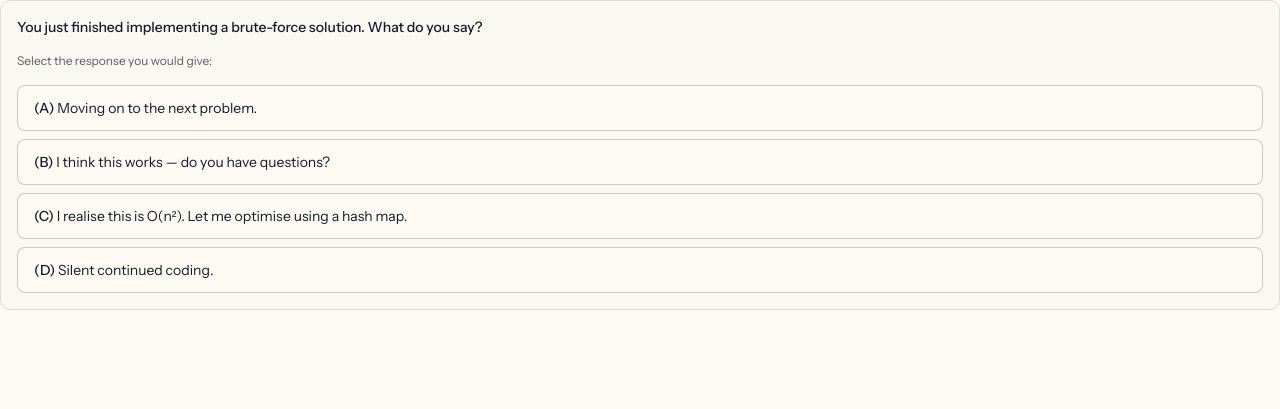
Test case: ChooseYourLineWidget › clicking the same choice again hides feedback
Click the button with test id "choice-1": (193, 162) left=17, top=139, right=1263, bottom=185
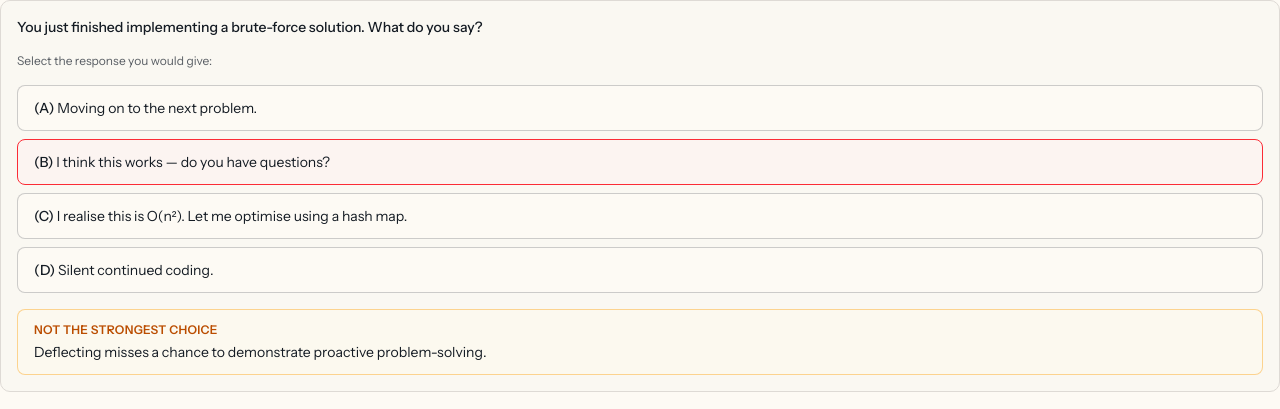
Now the element with test id "choice-feedback" is shown, box left=17, top=309, right=1263, bottom=375
Click the button with test id "choice-1": (193, 162) left=17, top=139, right=1263, bottom=185
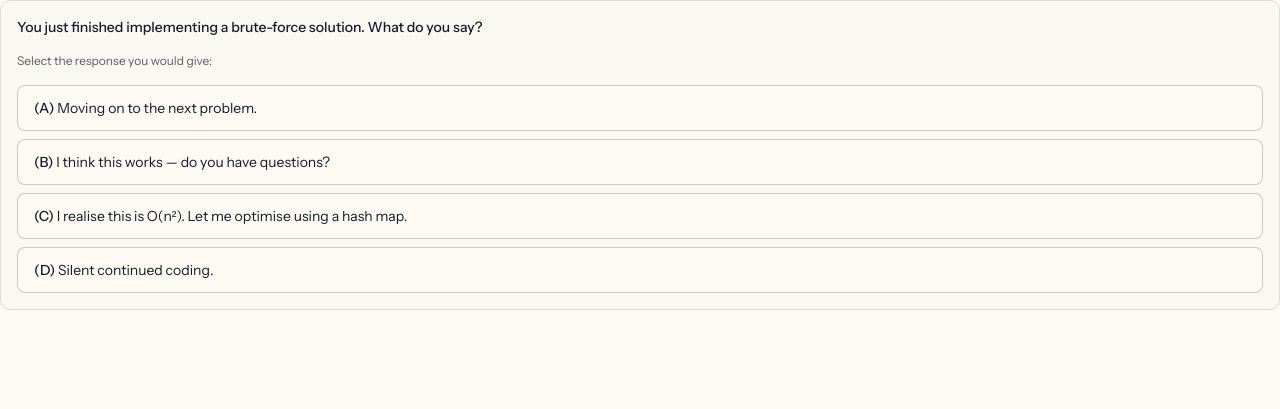
Now the element with test id "choice-feedback" is gone
